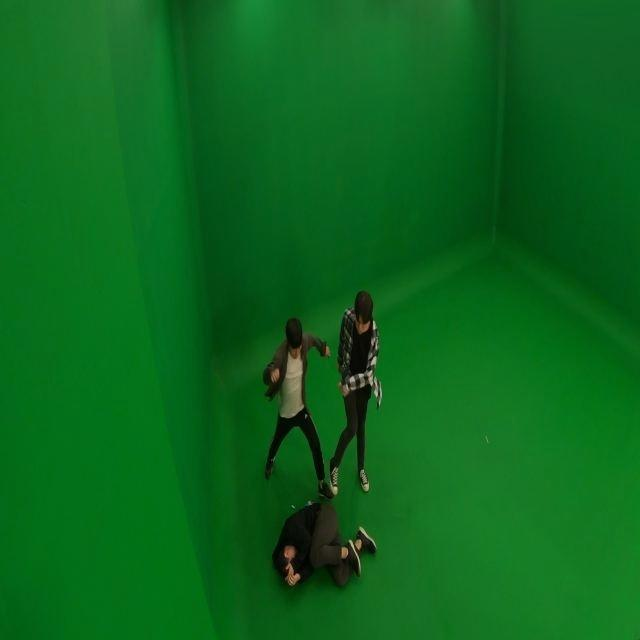fight: (258, 315, 378, 591)
non-fight: (324, 287, 381, 497)
